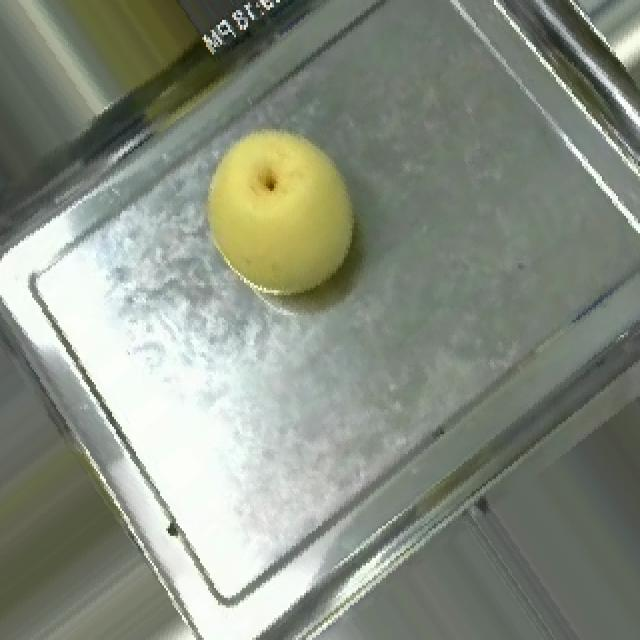Fruit: (176, 102, 380, 315)
